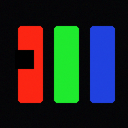1 square: (15, 50, 33, 68)
